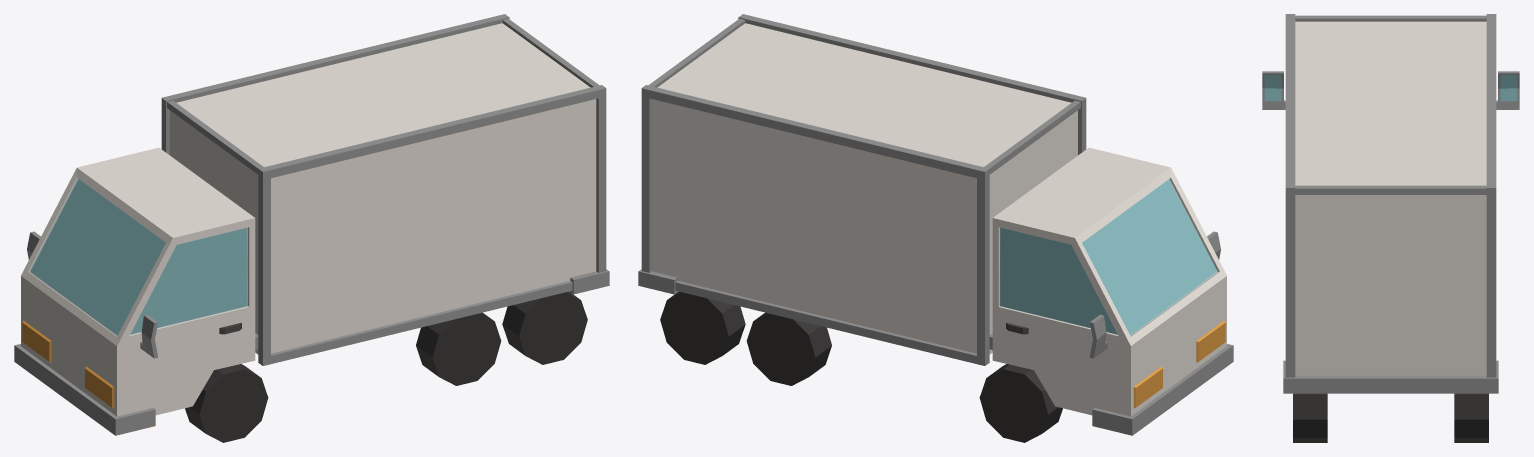
The model's file is Truck.fbx.
The picture shows the model from 3 angles, left to right: view 1: azimuth 30°, elevation 25°; view 2: azimuth 150°, elevation 25°; view 3: azimuth 270°, elevation 25°; orthographic projection. The views are drawn at different scales.
Visible parts, largest first — view 1: Truck; view 2: Truck; view 3: Truck.
Boxes of the visible parts, box(x1,y1,x2,y2) form: Truck: box(14, 14, 609, 442); Truck: box(638, 14, 1233, 442); Truck: box(1262, 14, 1519, 442).
Size of the model in its own units: 379 by 194 by 165.
